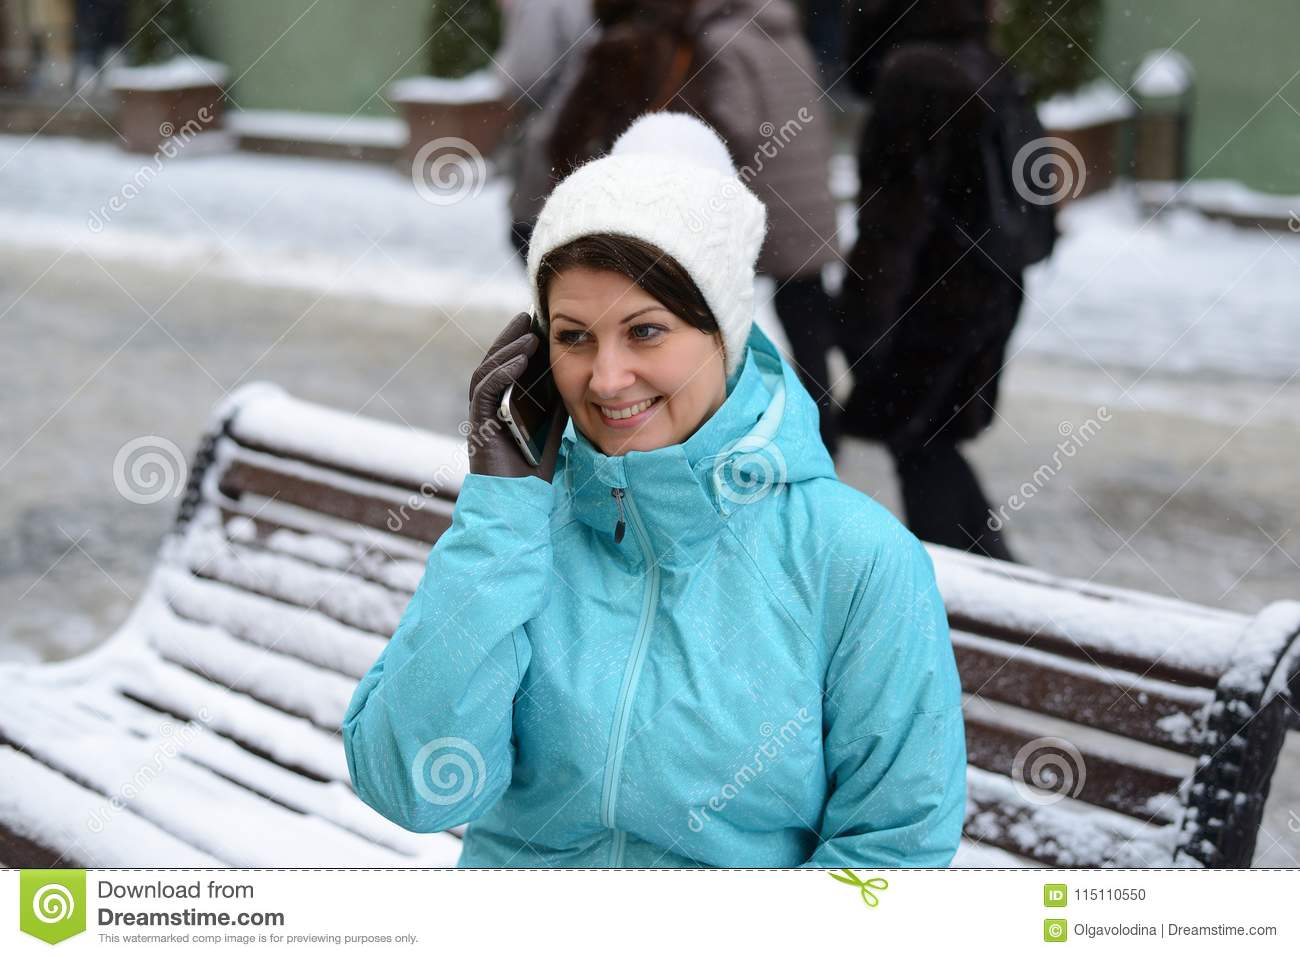phone: (503, 299, 557, 472)
talk: (464, 298, 688, 506)
